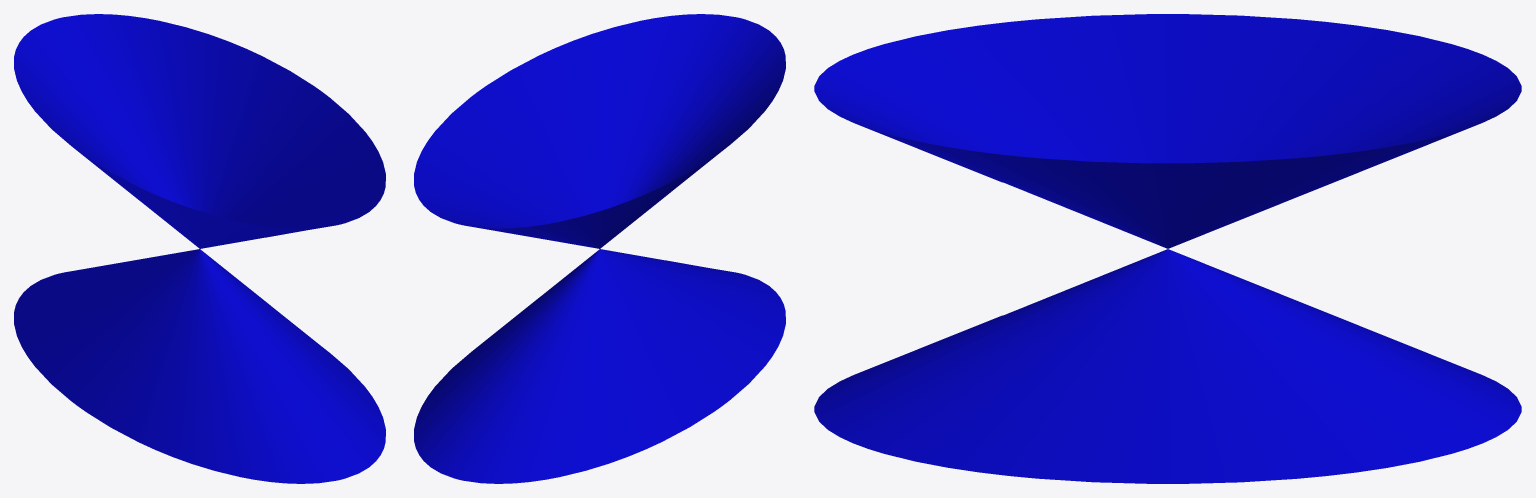
File: elipses parabolas _3D.FBX
3 views of the same model, side by side, from view 1: azimuth 30°, elevation 25°; view 2: azimuth 150°, elevation 25°; view 3: azimuth 270°, elevation 25° (orthographic). The views are drawn at different scales.
Visible parts, largest first — view 1: superficie; view 2: superficie; view 3: superficie.
Part boxes in pixels (left/top/right/bottom): superficie: left=14, top=14, right=385, bottom=483; superficie: left=414, top=14, right=785, bottom=483; superficie: left=814, top=14, right=1521, bottom=483.
Bounding box in the file's own units: 122 × 122 × 244.
